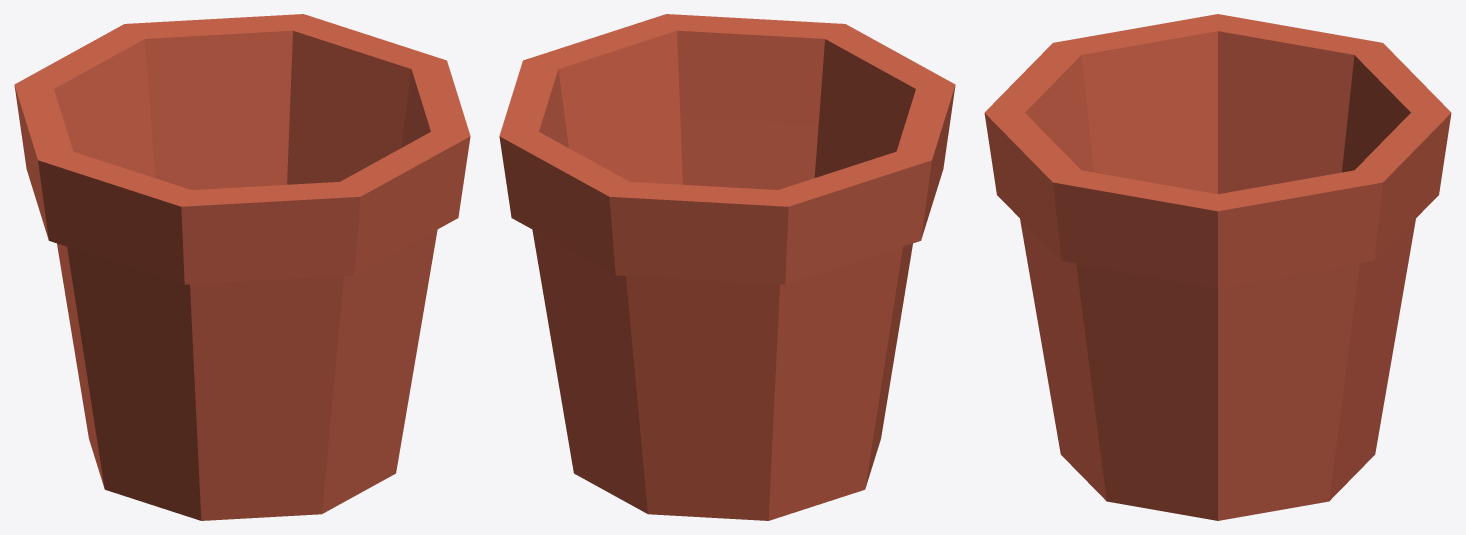
The picture shows the model from 3 angles, left to right: view 1: azimuth 30°, elevation 25°; view 2: azimuth 150°, elevation 25°; view 3: azimuth 270°, elevation 25°; orthographic projection.
Visible parts, largest first — view 1: pot; view 2: pot; view 3: pot.
Part boxes in pixels (x1=…): pot: x1=14, y1=14, x2=470, y2=520; pot: x1=499, y1=14, x2=955, y2=520; pot: x1=984, y1=14, x2=1451, y2=520.
Size of the model in its own units: 0.3 by 0.2423 by 0.3.
